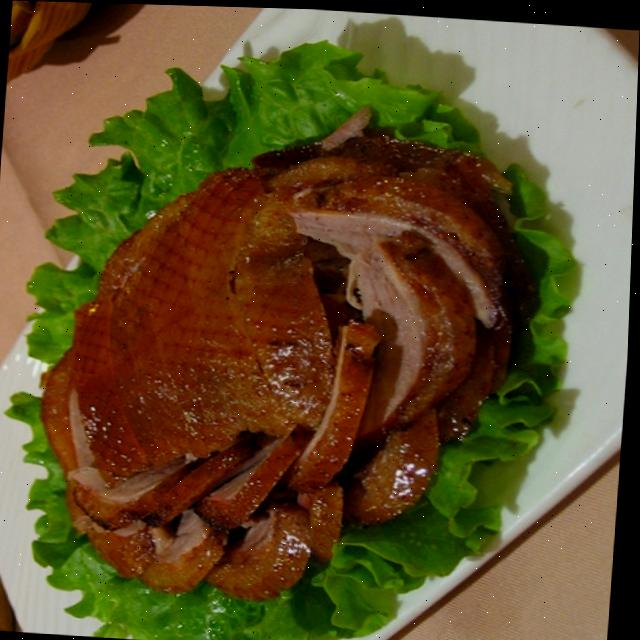烧串烤肉: (0, 74, 630, 640)
